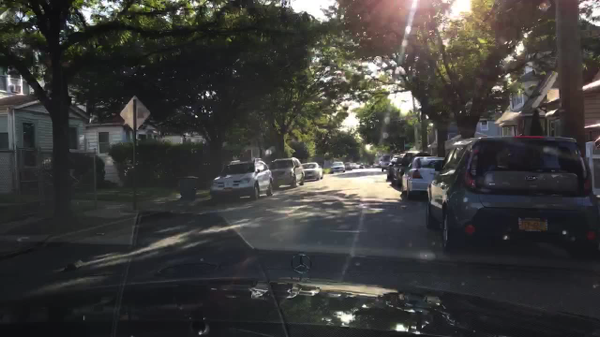car: (424, 134, 600, 261), (209, 159, 273, 200), (401, 157, 444, 199), (390, 153, 428, 187), (270, 157, 305, 189), (302, 162, 324, 183), (387, 154, 399, 179), (329, 161, 346, 175), (380, 156, 392, 171), (344, 162, 352, 170), (352, 163, 359, 169), (359, 164, 365, 169)
traffic sign: (119, 97, 153, 131)
